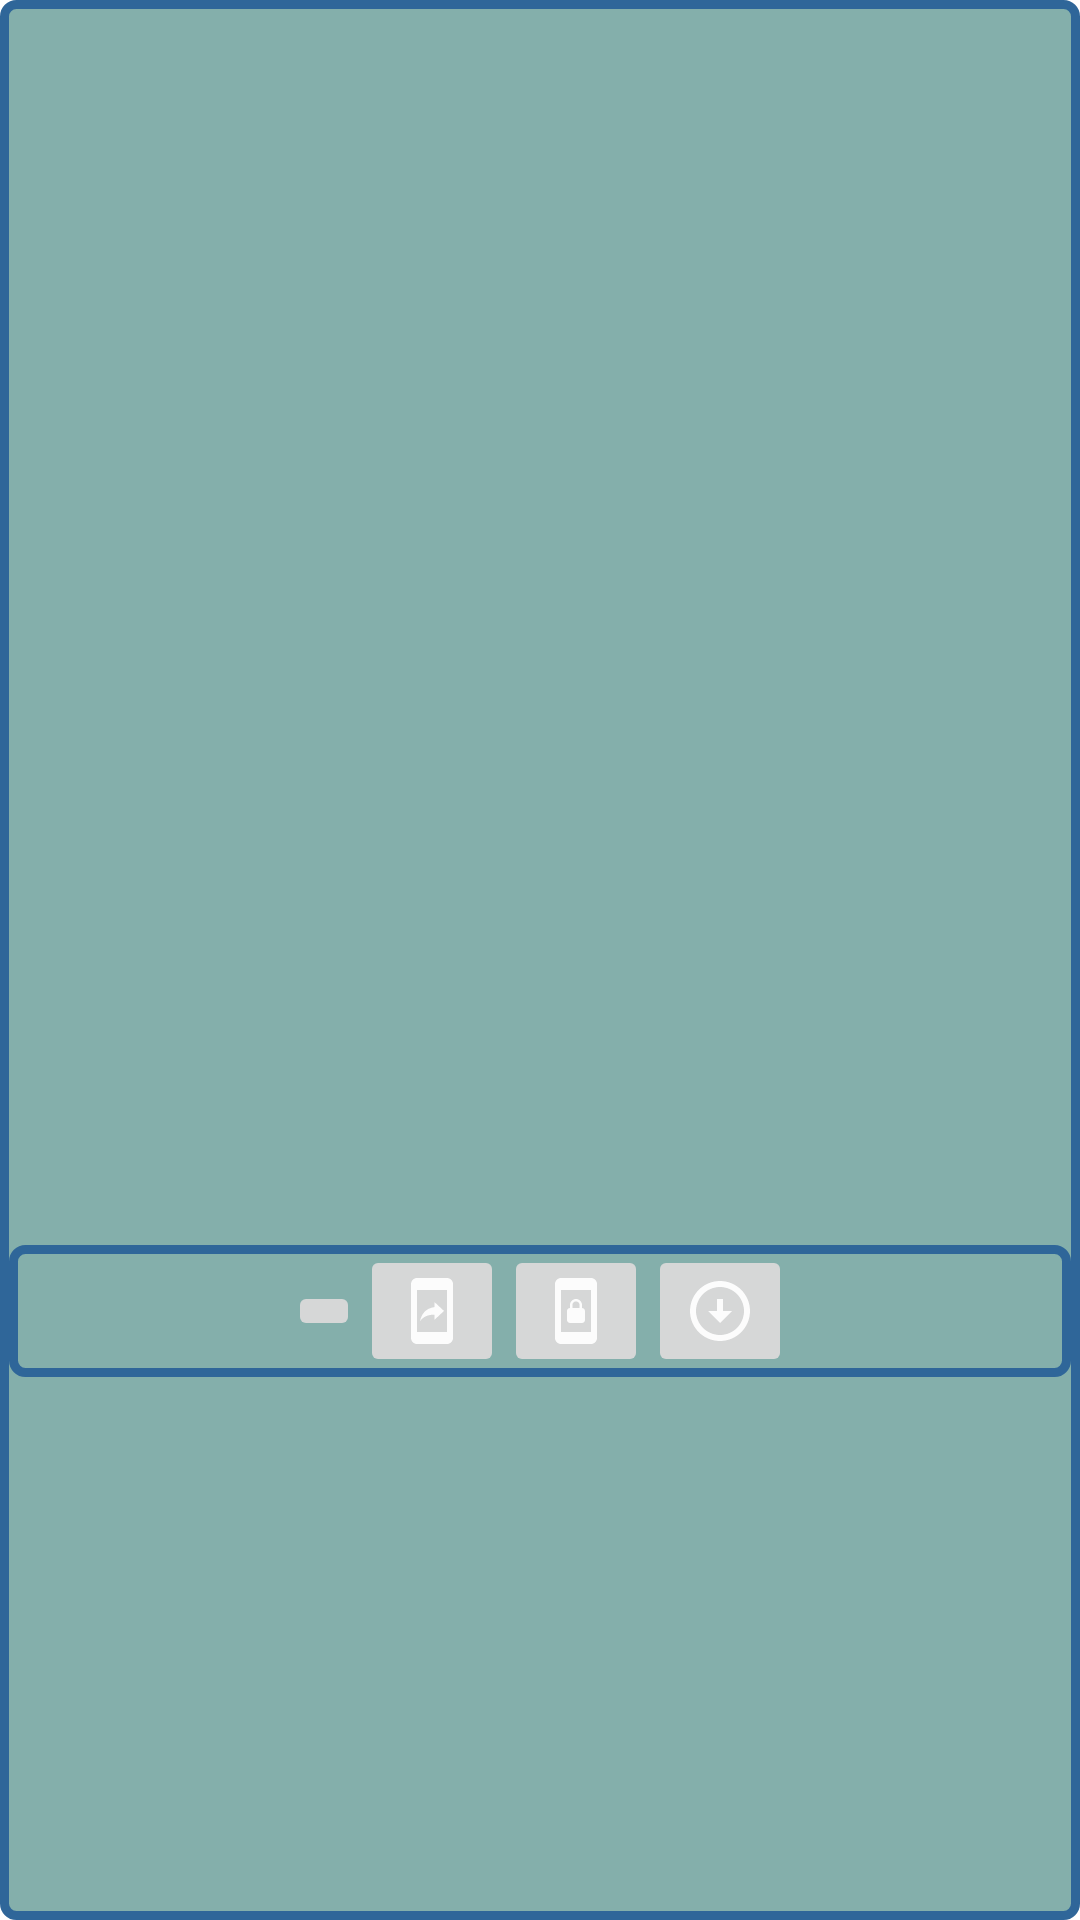

Locate icon controls on the screen. Image size 1080×1920, boxes as (x1, y1, x2, y2).
down: (660, 1263, 780, 1359)
mobile screen: (372, 1263, 492, 1359)
screen lock: (516, 1263, 636, 1359)
